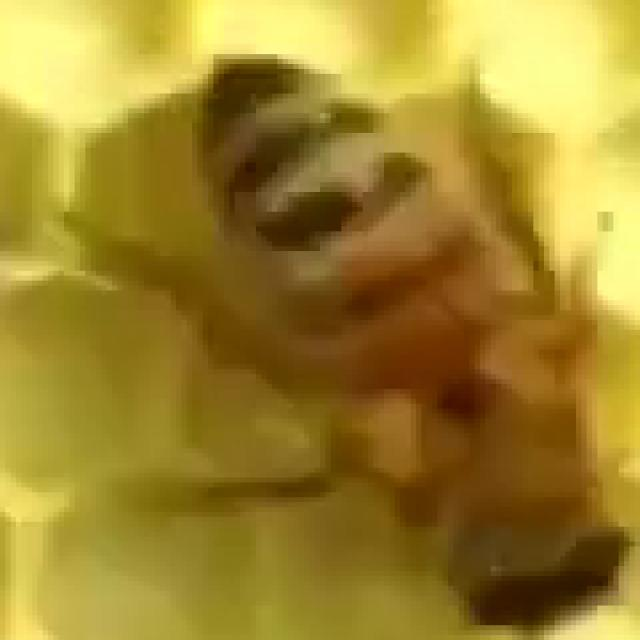honeybee: (205, 53, 622, 621)
